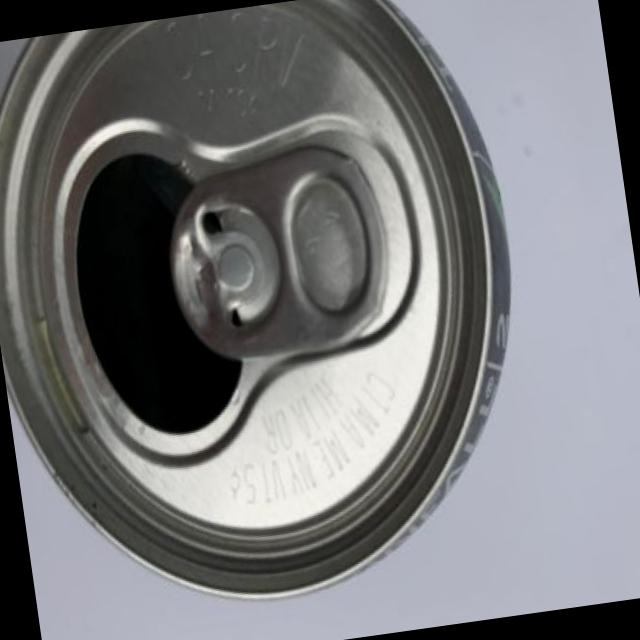kim_loai: (0, 0, 510, 599)
